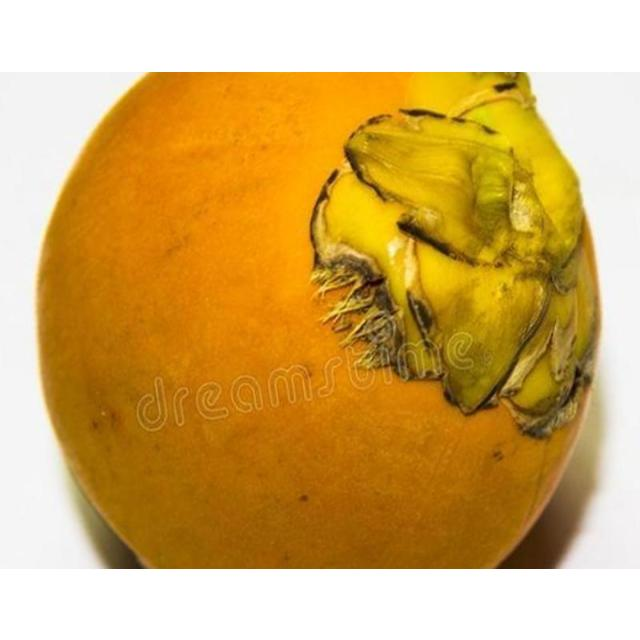good: (33, 71, 605, 568)
